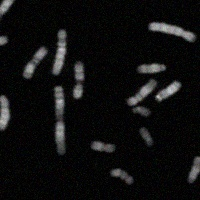chromosome: (149, 21, 197, 44), (53, 86, 66, 155), (0, 0, 21, 42), (21, 46, 47, 79), (126, 79, 157, 105), (51, 29, 68, 74), (156, 79, 181, 102), (73, 61, 85, 99), (109, 169, 134, 185), (90, 140, 117, 154), (139, 124, 155, 147), (0, 95, 10, 131), (136, 62, 168, 73), (187, 156, 200, 183), (0, 180, 13, 200), (132, 106, 150, 118), (0, 37, 8, 63)
